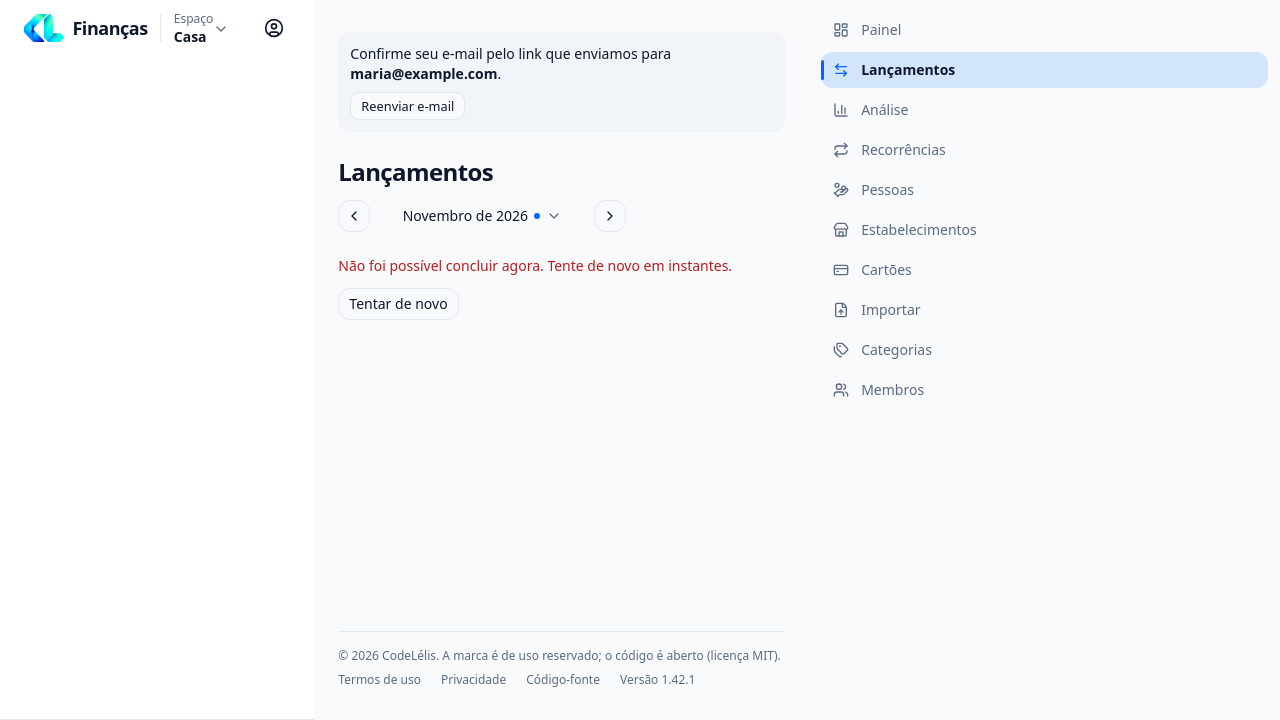
Test case: WorkspaceSwitcher › switches workspace keeping the section and the competência
The image size is (1280, 720).
Click the button named "Trocar de espaço: Espaço Casa": [202, 29] box top-left (165, 7), bottom-right (238, 51)
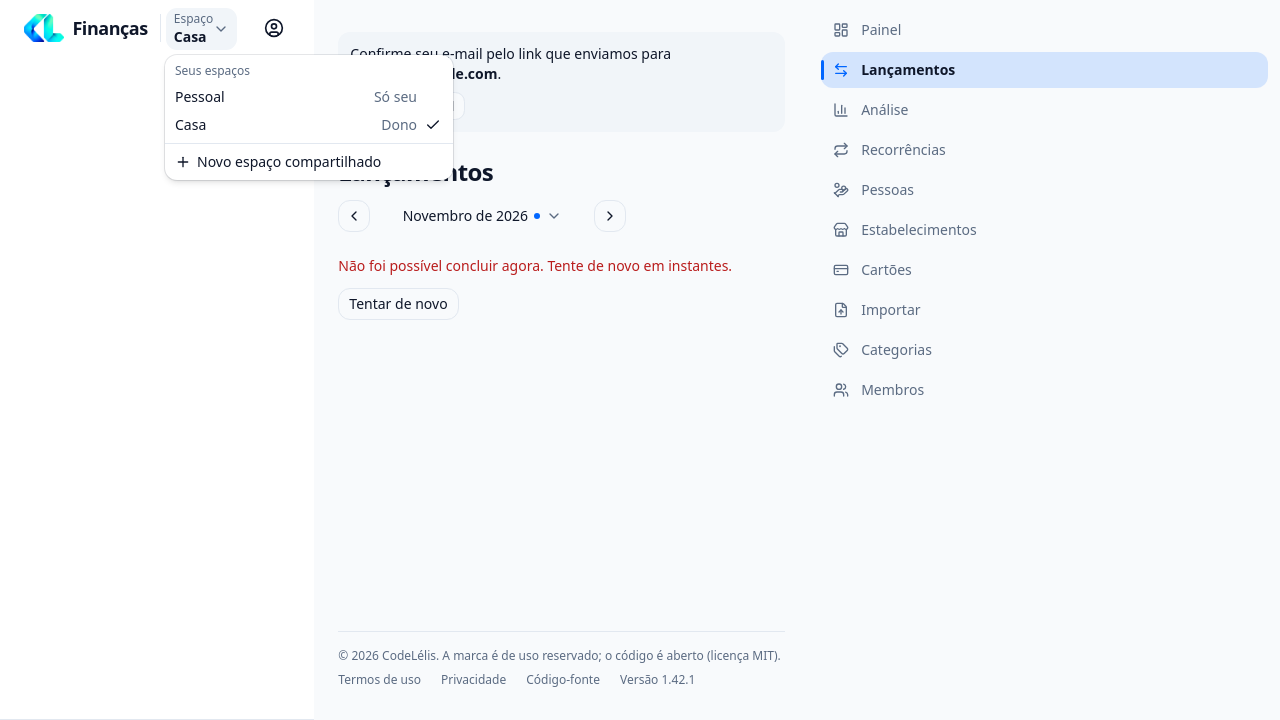
Click the menu item "Pessoal Só seu": [200, 96] box top-left (169, 83), bottom-right (449, 111)
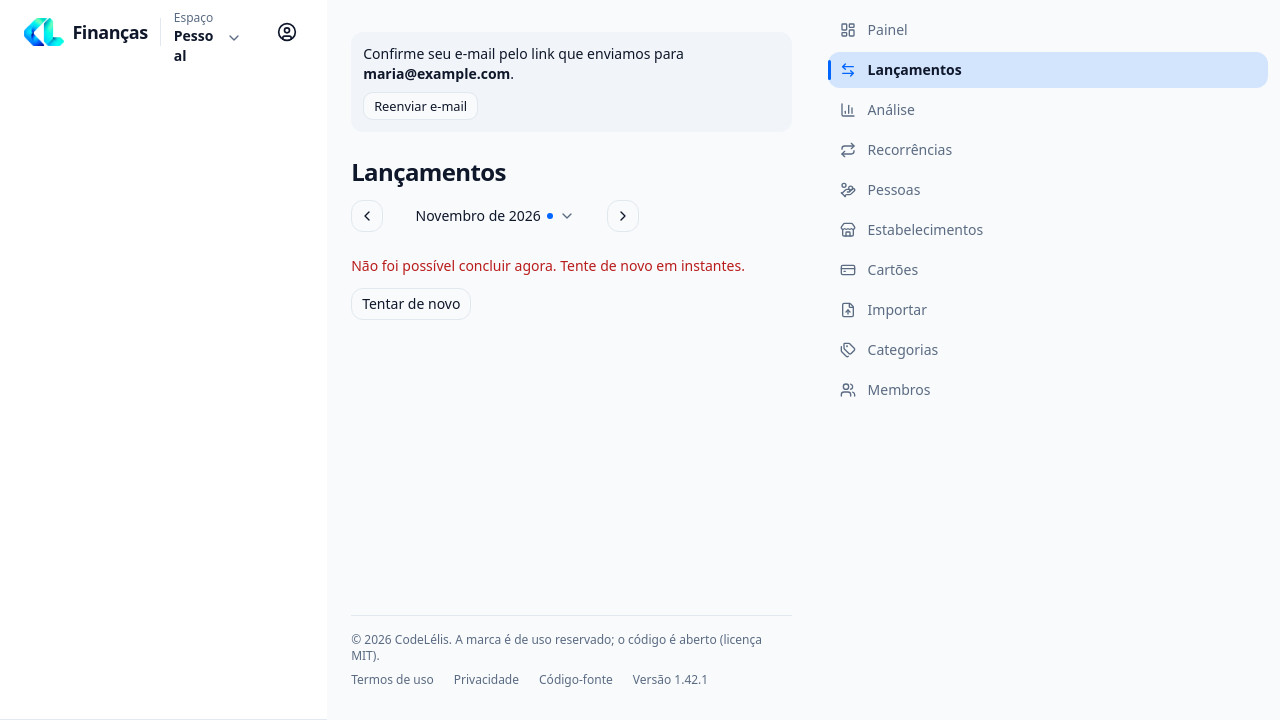
Now the button named "Trocar de espaço: Espaço Pessoal" is shown, box top-left (165, 16), bottom-right (251, 60)
